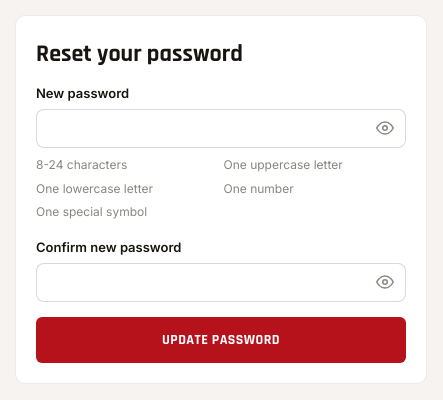
Test: reset password page › shows the server's message when the link was already used
Expected: the button "Update password" is shown, [36,317,406,363]
In the 1st password field: (221, 128) [36,109,406,148], type "Passw0rd!x"
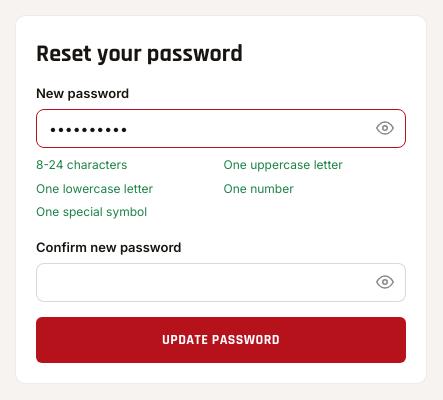
In the password field below "Confirm new password": (221, 282) [36,263,406,302], type "Passw0rd!x"
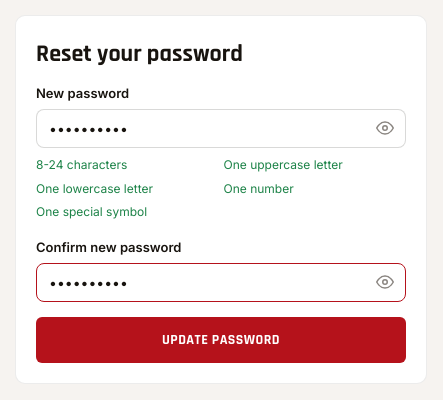
Click the button "Update password": (221, 340) [36,317,406,363]
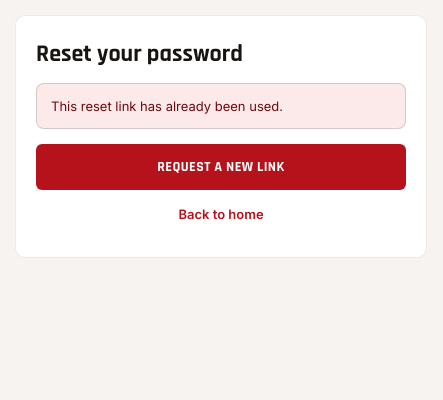
Now the text "This reset link has already been used." is shown, box [36,83,406,129]
